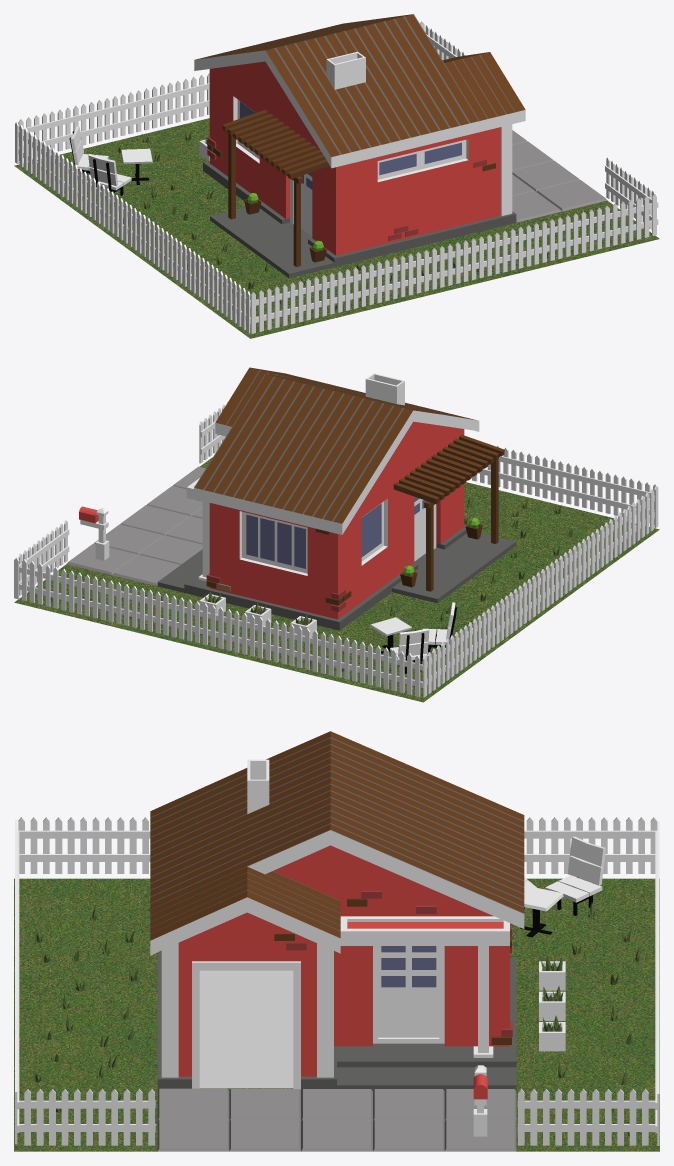
Rendered from SimpleRoofHouse.fbx.
The picture shows the model from 3 angles, top to bottom: view 1: azimuth 30°, elevation 25°; view 2: azimuth 150°, elevation 25°; view 3: azimuth 270°, elevation 25°; orthographic projection. The views are drawn at different scales.
Visible parts, largest first — view 1: Building_G; view 2: Building_G; view 3: Building_G.
Boxes of the visible parts, box(x1,y1,x2,y2) form: Building_G: box(14, 14, 659, 338); Building_G: box(14, 367, 659, 702); Building_G: box(14, 731, 659, 1151).
Size of the model in its own units: 2001 by 802 by 2000.
